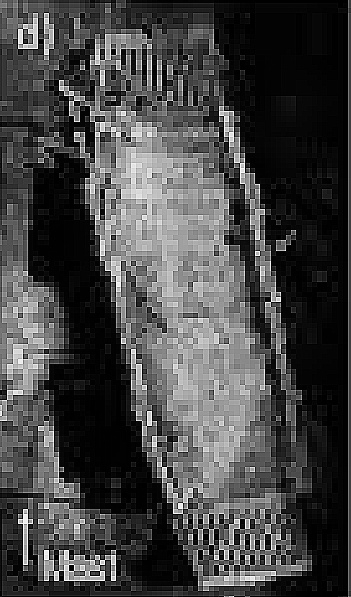ship: (56, 28, 316, 584)
